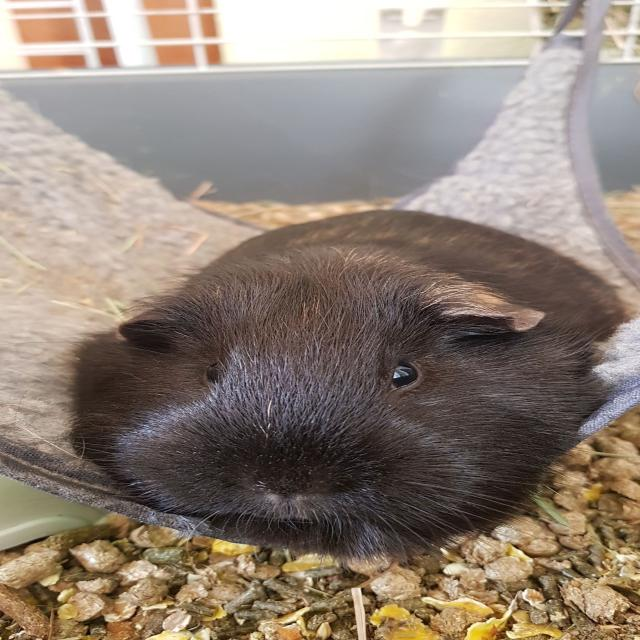guinea pig: (72, 208, 624, 554)
